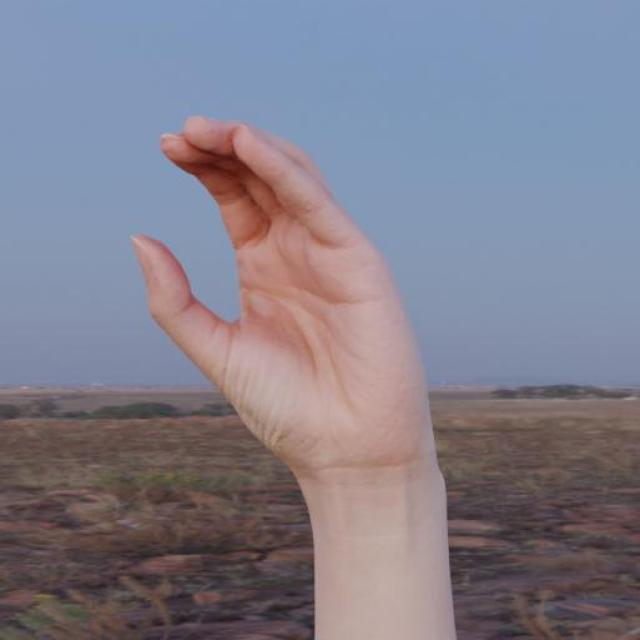C: (126, 111, 449, 491)
